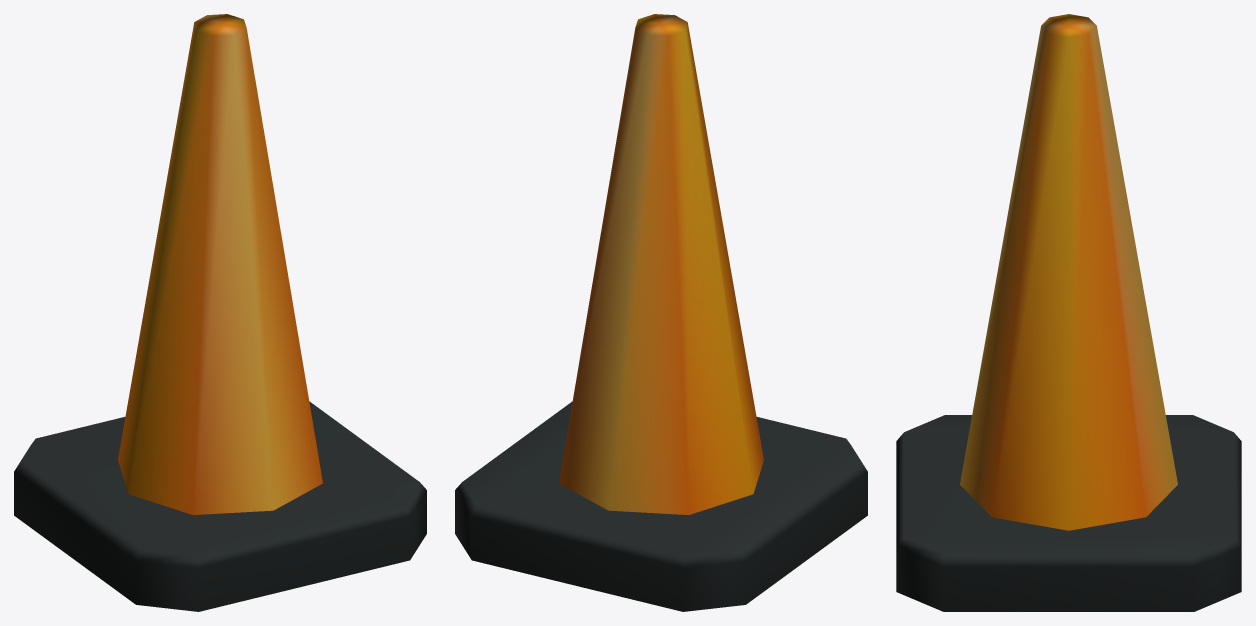
3 views of the same model, side by side, from view 1: azimuth 30°, elevation 25°; view 2: azimuth 150°, elevation 25°; view 3: azimuth 270°, elevation 25° (orthographic). The views are drawn at different scales.
Parts seen in each view (by area): view 1: SM_ER_Cone; view 2: SM_ER_Cone; view 3: SM_ER_Cone.
Part boxes in pixels (left/top/right/bottom): SM_ER_Cone: left=14, top=14, right=426, bottom=611; SM_ER_Cone: left=455, top=14, right=867, bottom=611; SM_ER_Cone: left=896, top=14, right=1241, bottom=611.
Bounding box in the file's own units: 90.29 × 148 × 90.29.
